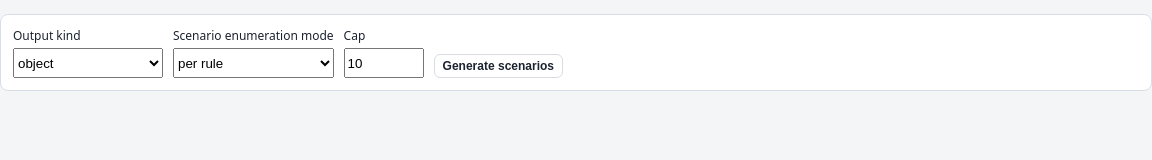
Test: DecisionScenarioWorkbench › does not expose save when the authoritative projection cannot be loaded
Step 1. Click the button with test id "generate-decision-scenarios" → (498, 66), box [434,54,563,78]
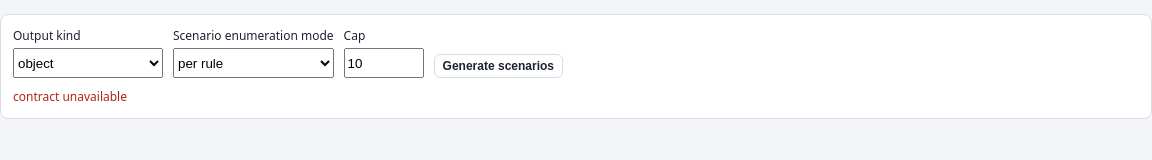
Expected: the message "contract unavailable" is shown, [13,88,127,105]
